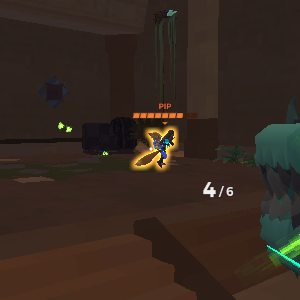model: (133, 122, 185, 173)
